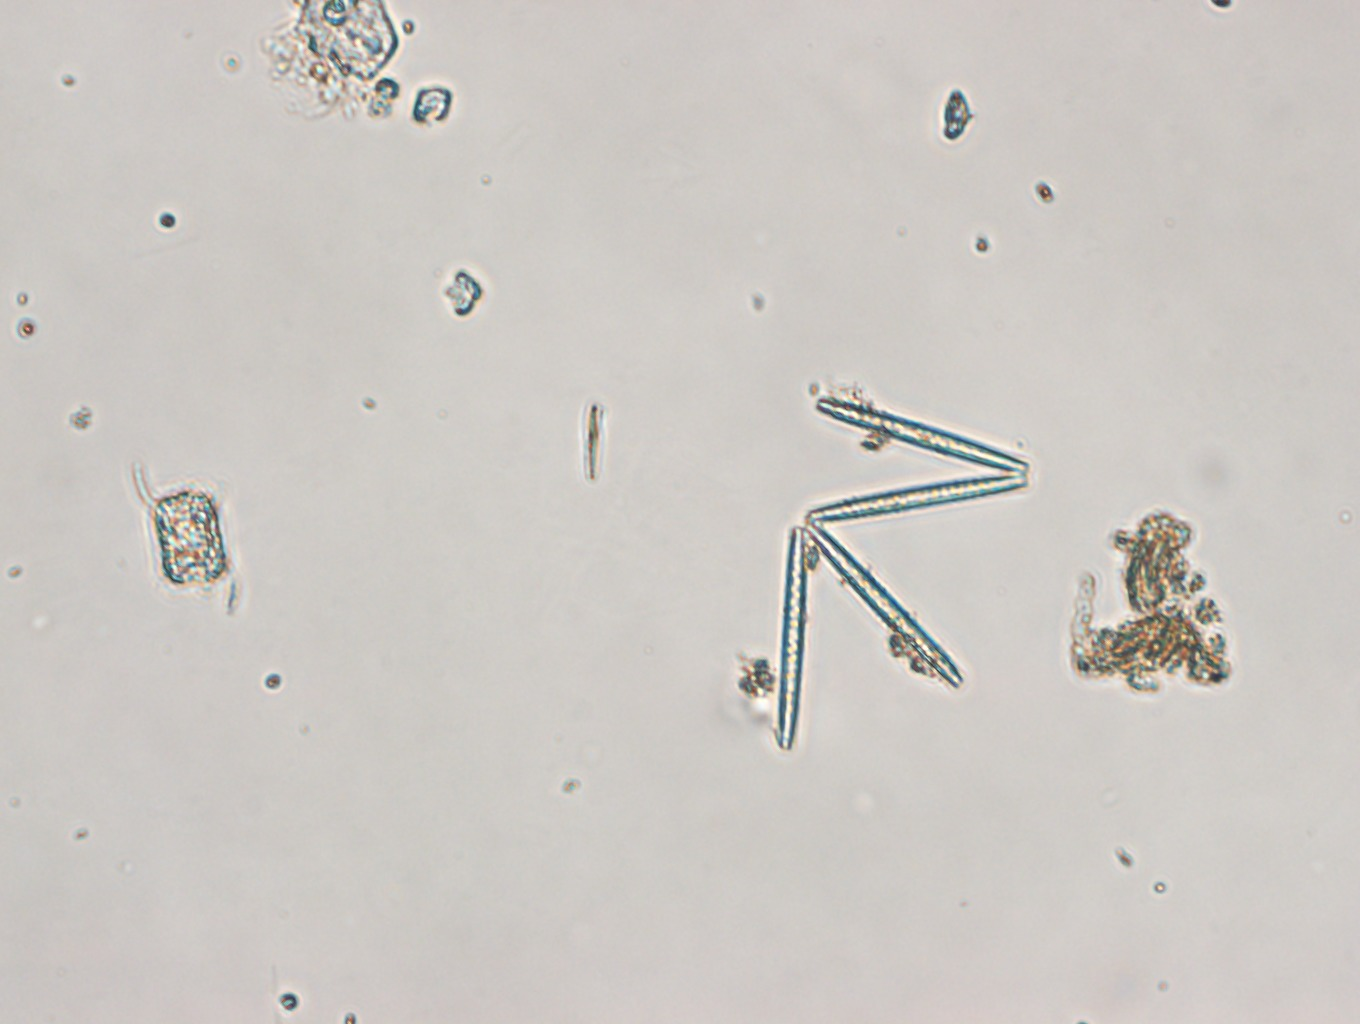thalassionema nitzschioides: (770, 400, 1036, 746)
